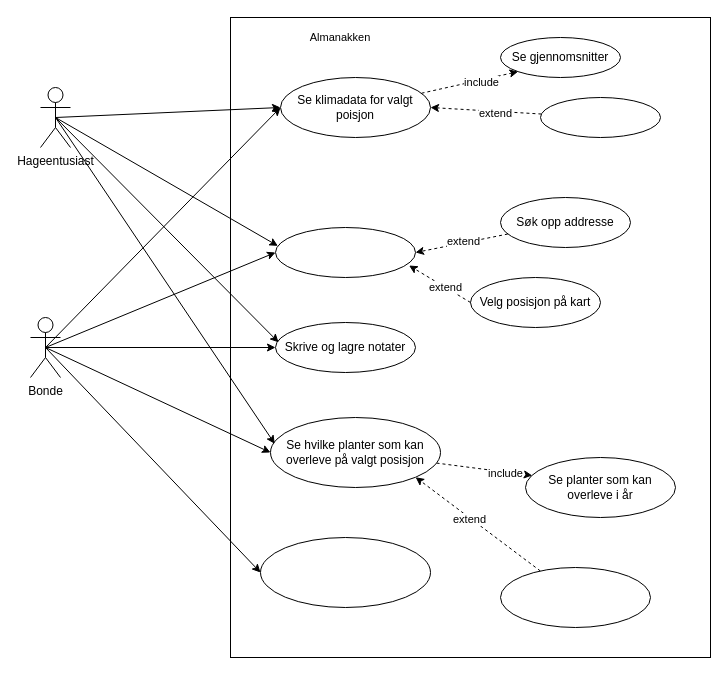
Image size: 728x675. Some labels were removed from this diagram. The centre of each missing label's shape, as x and y in pixels:
"Legge til og lagre addresser" belongs at point 345,252.
"Se klimadata i bakover i tid" belongs at point 600,117.
"Se områder på kart som er spesielt utsatt for naturhendelser" belongs at point 345,572.
"Se planter som kan overleve i framtiden" belongs at point 575,597.
